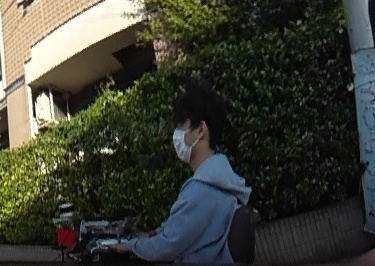person: (125, 78, 255, 266)
